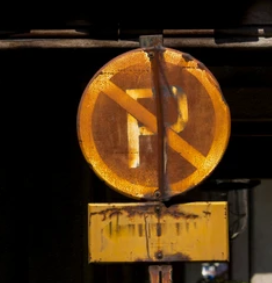No parking: (47, 34, 232, 201)
